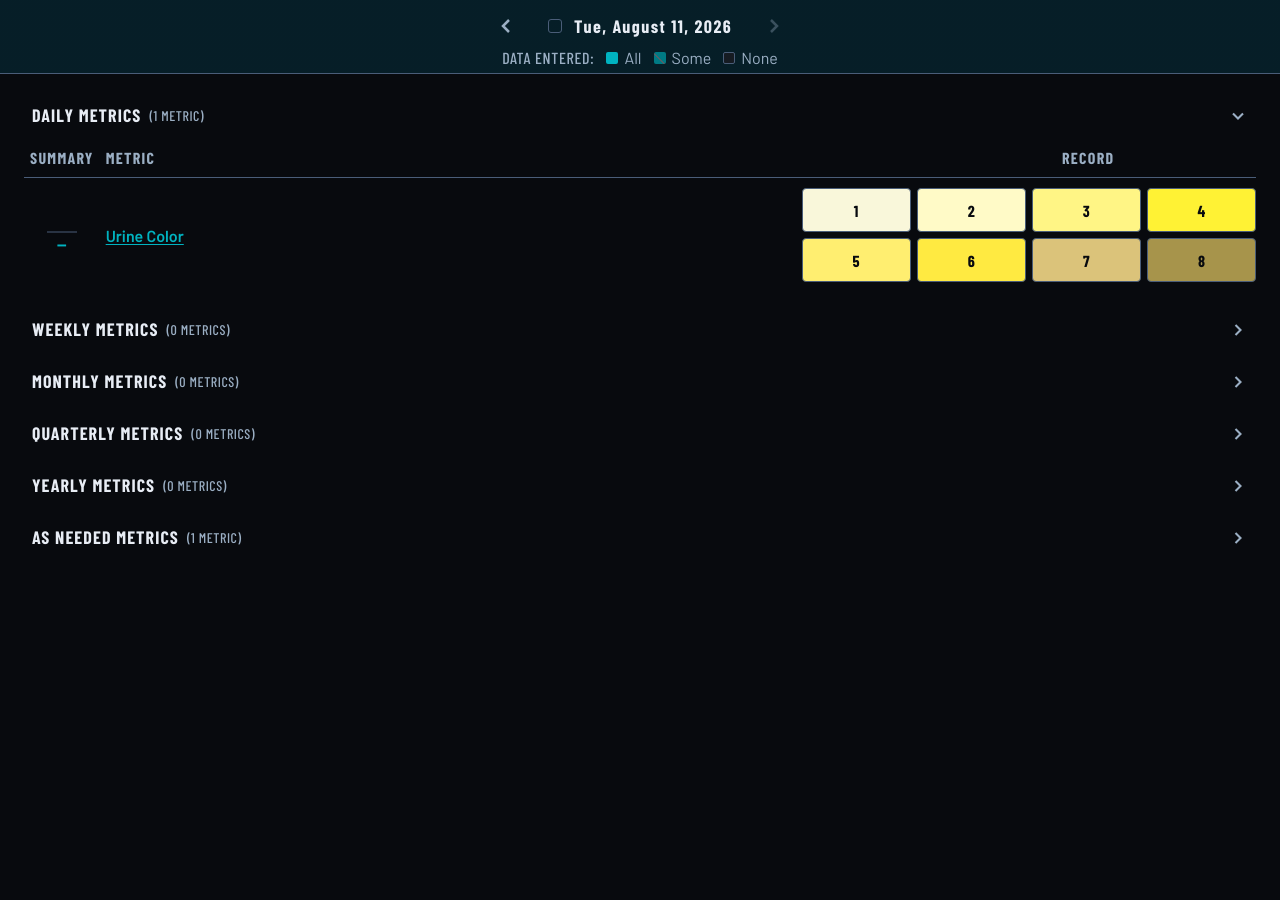
Test: MetricsDataEntryLog - competition customs respect tracked-IDs filter › renders a custom whose id IS in trackedCompetitionMetrics
This screenshot has width=1280, height=900.
Step 1. Click the button "As Needed Metrics (1 metric)" → click(105, 537), box [24,516,1256,560]
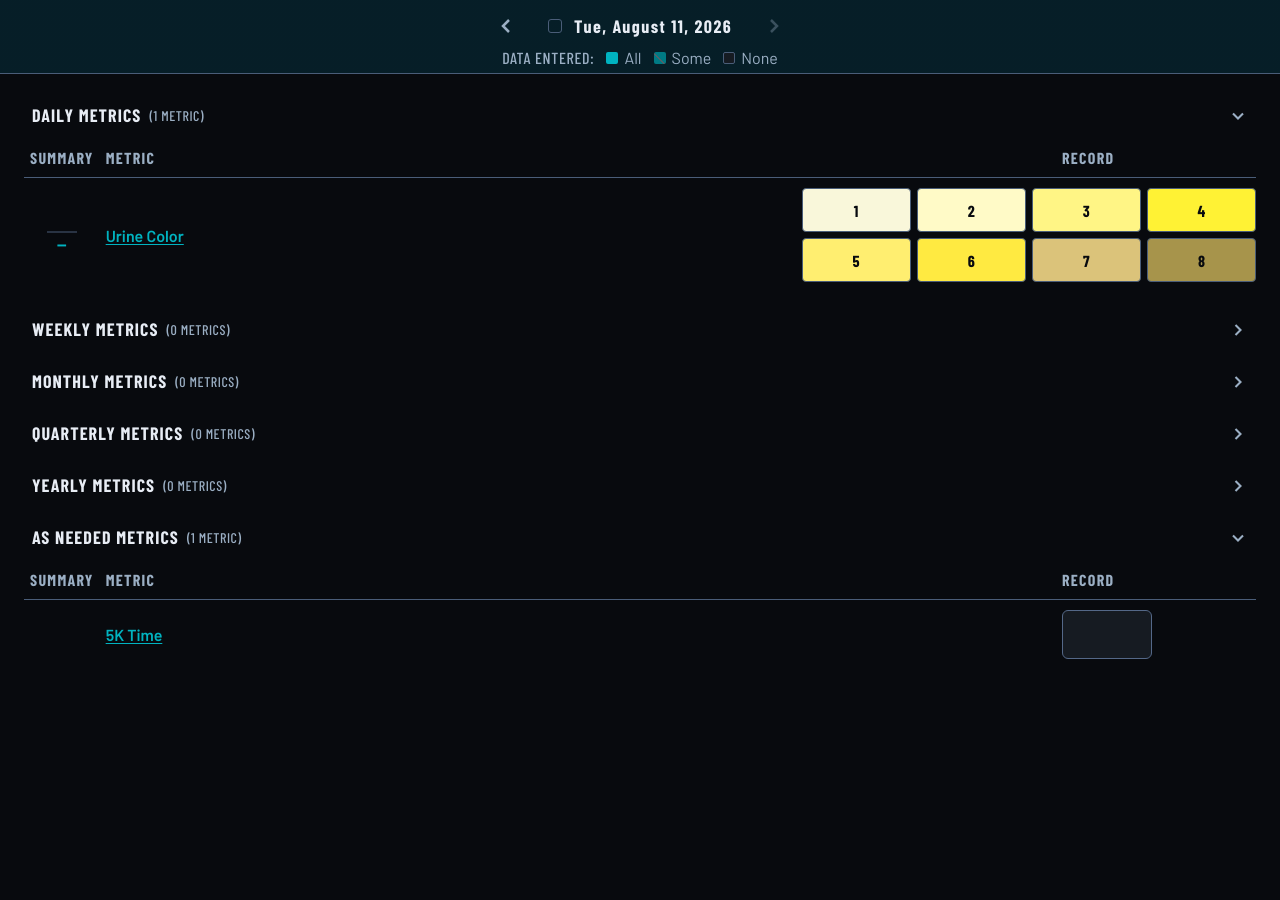
Check: the link "5K Time" is shown, box [106,625,162,649]
